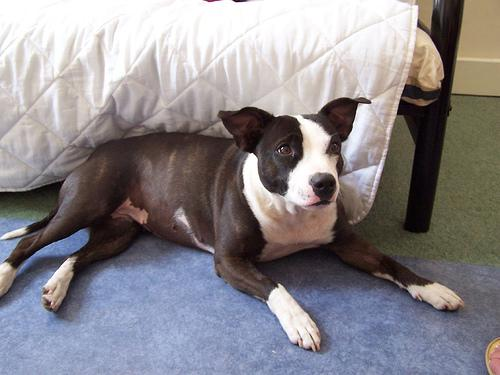dog-staffordshire_bull_terrier: (216, 96, 369, 210)
